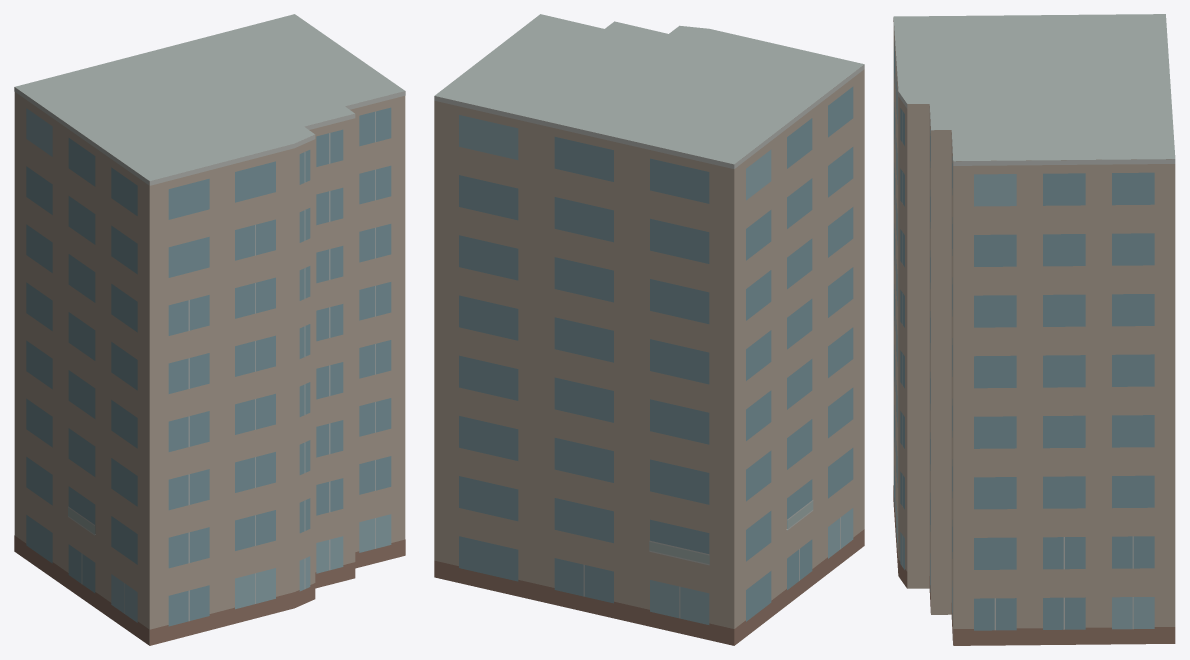
Rendered from survey-upis-33016248.glb.
3 renders of one model, left to right at view 1: azimuth 30°, elevation 25°; view 2: azimuth 150°, elevation 25°; view 3: azimuth 270°, elevation 25°, orthographic. The views are drawn at different scales.
Parts seen in each view (by area): view 1: survey-upis-33016248.tmp; view 2: survey-upis-33016248.tmp; view 3: survey-upis-33016248.tmp.
Boxes of the visible parts, box(x1,y1,x2,y2) form: survey-upis-33016248.tmp: box(14, 14, 405, 645); survey-upis-33016248.tmp: box(434, 14, 864, 645); survey-upis-33016248.tmp: box(893, 14, 1175, 645).
Size of the model in its own units: 15.89 by 24.4 by 12.87.
